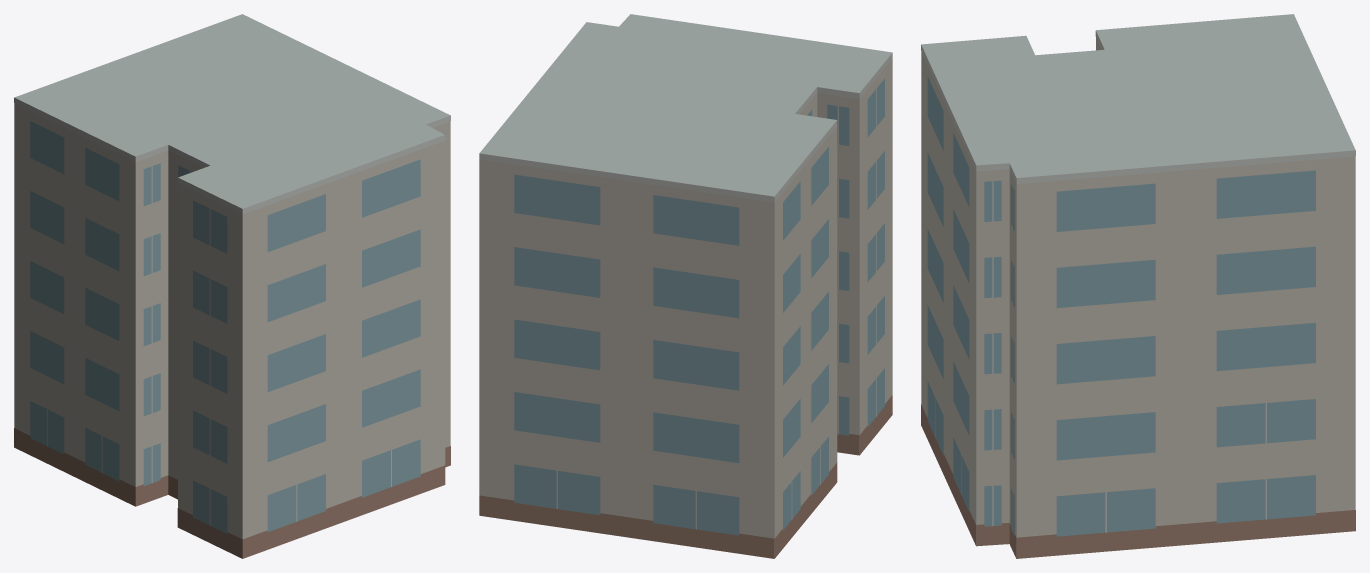
The model's file is survey-upis-32667263.glb.
The picture shows the model from 3 angles, left to right: view 1: azimuth 30°, elevation 25°; view 2: azimuth 150°, elevation 25°; view 3: azimuth 270°, elevation 25°; orthographic projection. The views are drawn at different scales.
Parts seen in each view (by area): view 1: survey-upis-32667263.tmp; view 2: survey-upis-32667263.tmp; view 3: survey-upis-32667263.tmp.
Part boxes in pixels (bbox=[...]): survey-upis-32667263.tmp: bbox=[14, 14, 450, 558]; survey-upis-32667263.tmp: bbox=[479, 14, 892, 558]; survey-upis-32667263.tmp: bbox=[921, 14, 1355, 558].
Size of the model in its own units: 14.03 by 15.17 by 15.7.
